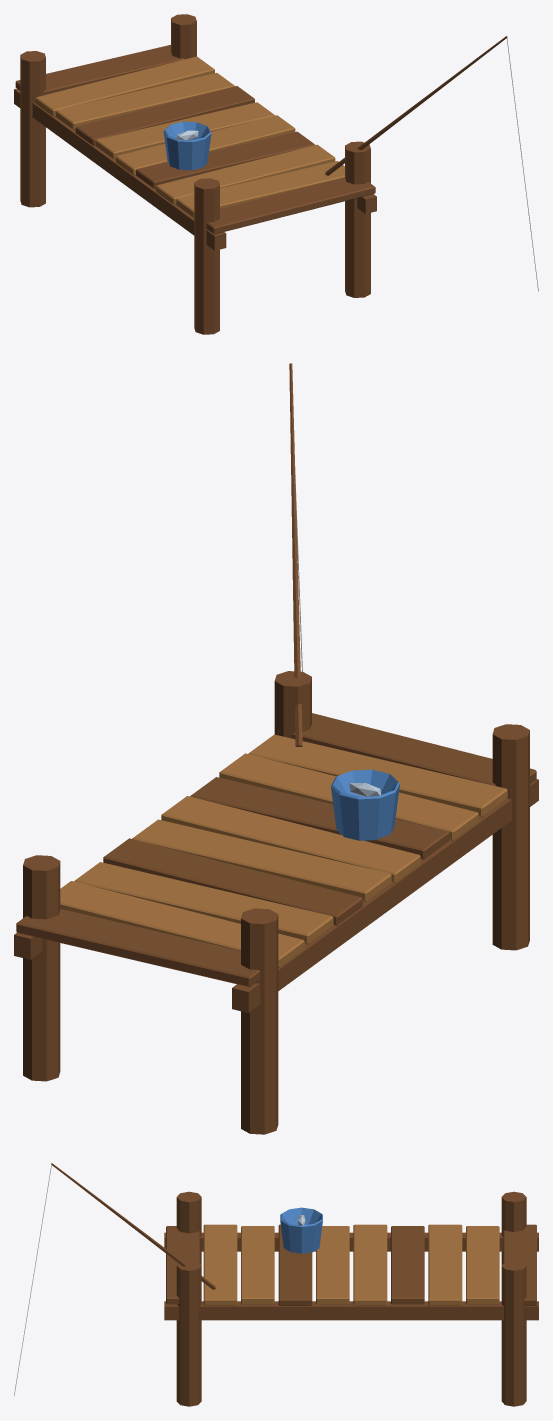
The model's file is vil_dock_fishing_v01.glb.
The picture shows the model from 3 angles, top to bottom: view 1: azimuth 30°, elevation 25°; view 2: azimuth 150°, elevation 25°; view 3: azimuth 270°, elevation 25°; orthographic projection. The views are drawn at different scales.
Visible parts, largest first — view 1: dock; view 2: dock; view 3: dock.
Part boxes in pixels (x1,y1,x2,y2): dock: [14, 14, 538, 334]; dock: [14, 363, 538, 1134]; dock: [14, 1163, 538, 1406].
Size of the model in its own units: 2.15 by 2.41 by 4.2.
